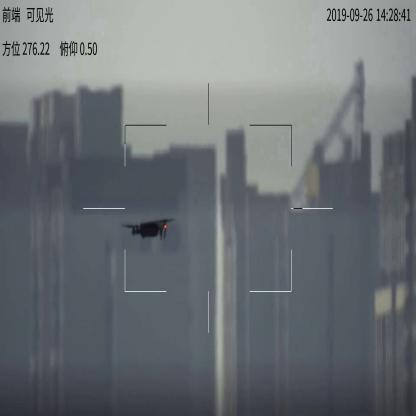uav: (122, 218, 170, 242)
